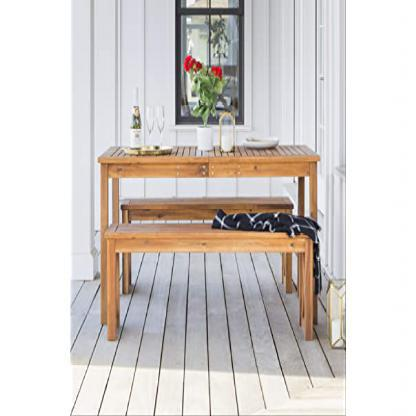table: (95, 134, 327, 334)
